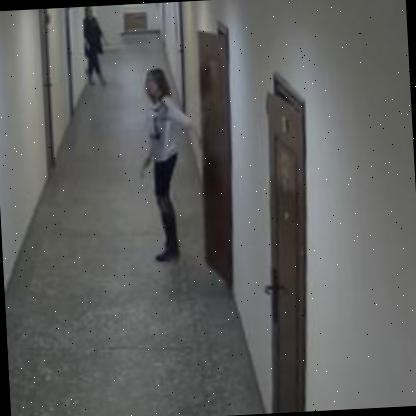door: (241, 70, 329, 411), (180, 16, 244, 280)
person: (130, 62, 192, 268), (70, 5, 112, 92)
